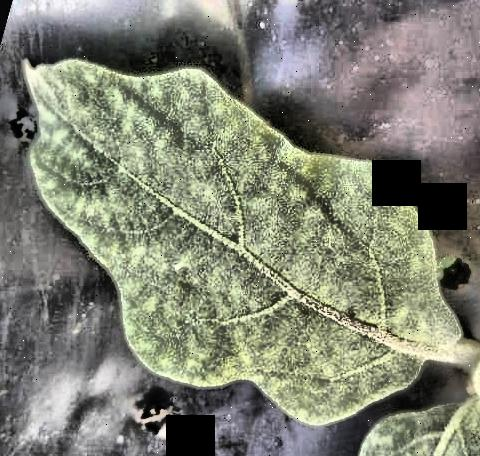HEALTHY: (1, 0, 480, 456)
